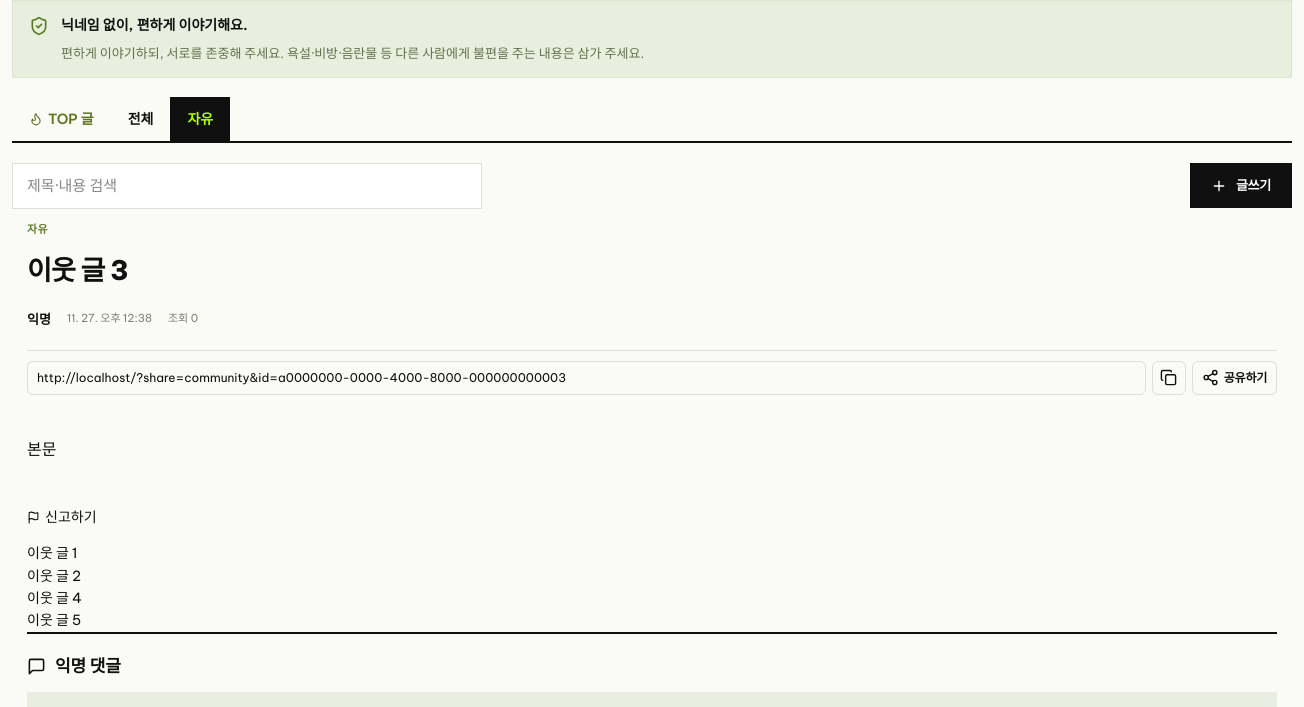
Test: a directly opened post shows nearby board titles and category click returns to the list
Click the button "자유": [200, 119] box [170,97,230,141]
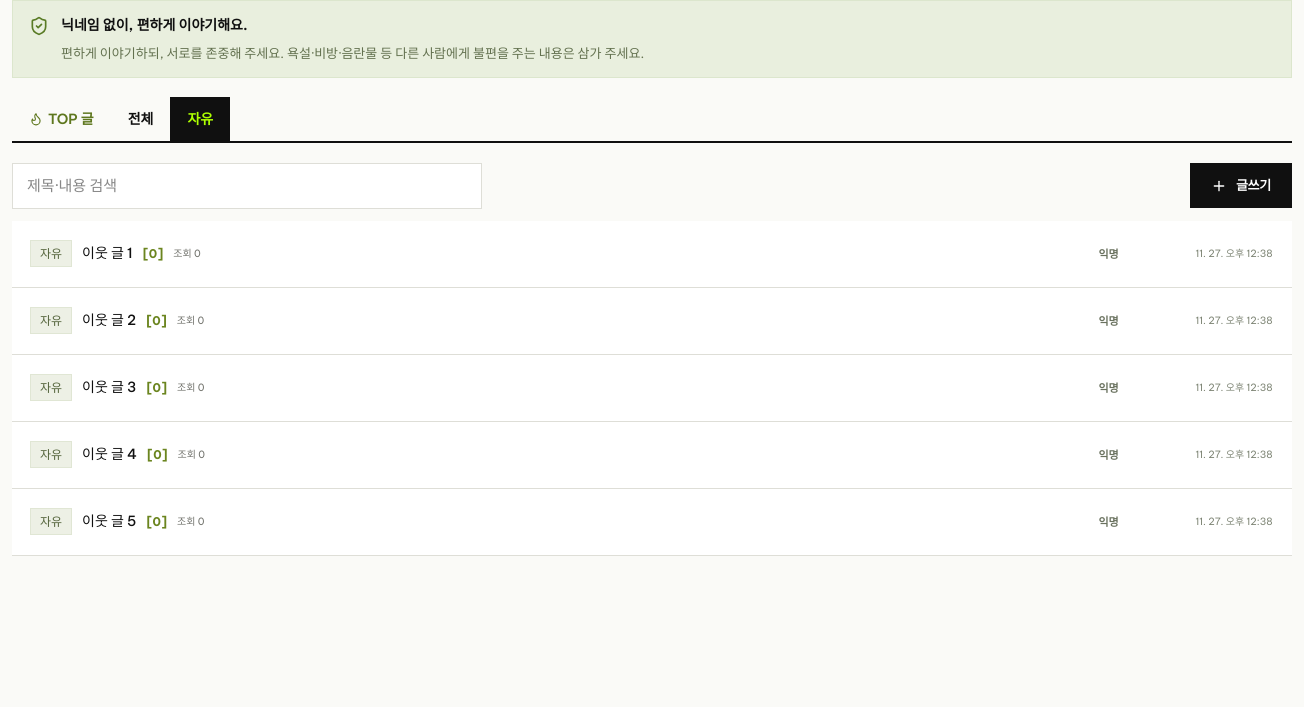
Expected: the field labelled "게시글" is gone
Expected: the button "자유 이웃 글 3 [0] 조회 0 익명 11. 27. 오후 12:38" is shown, [12,355,1292,422]
